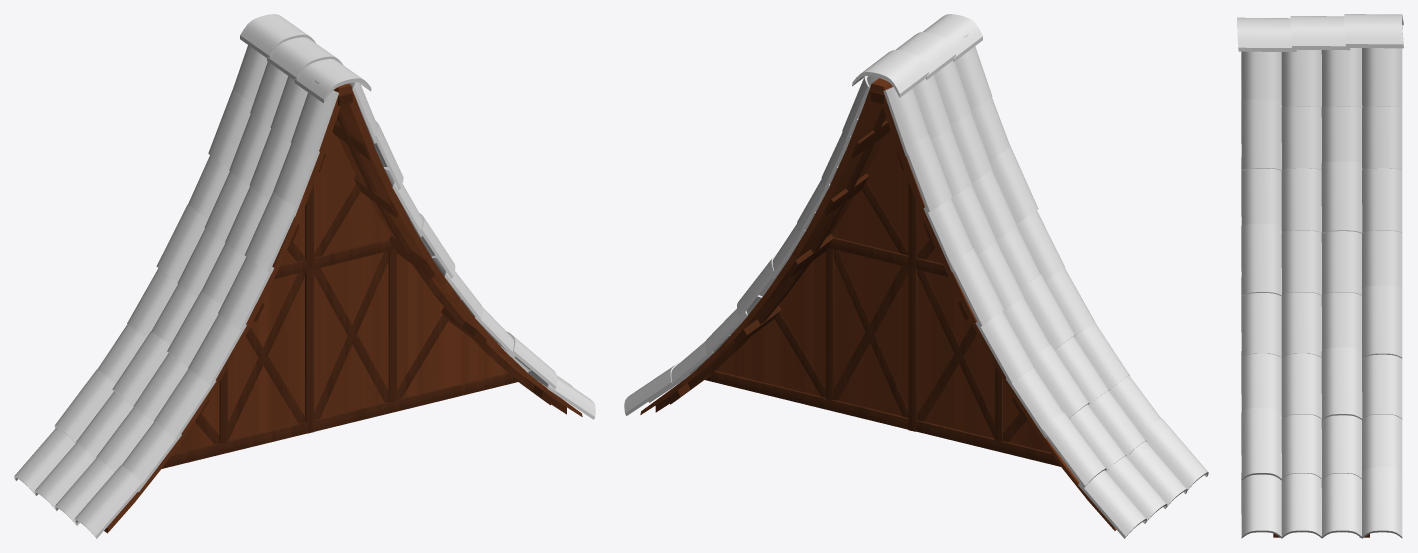
File: S_Roof_Frame_Wood.fbx
The picture shows the model from 3 angles, left to right: view 1: azimuth 30°, elevation 25°; view 2: azimuth 150°, elevation 25°; view 3: azimuth 270°, elevation 25°; orthographic projection.
Visible parts, largest first — view 1: Cube.011, S_Roof_Frame_Wood, Cube.020, Cube.016; view 2: Cube.011, S_Roof_Frame_Wood, Cube.020, Cube.016; view 3: Cube.011.
Boxes of the visible parts, bbox=[...] form: Cube.011: bbox=[14, 14, 595, 538]; S_Roof_Frame_Wood: bbox=[104, 83, 582, 533]; Cube.020: bbox=[161, 184, 517, 468]; Cube.016: bbox=[198, 93, 553, 415]; Cube.011: bbox=[624, 14, 1208, 538]; S_Roof_Frame_Wood: bbox=[640, 78, 1116, 530]; Cube.020: bbox=[705, 181, 1060, 466]; Cube.016: bbox=[667, 91, 1023, 415]; Cube.011: bbox=[1237, 14, 1403, 538].
Bounding box in the file's own units: 772 × 590 × 220.
